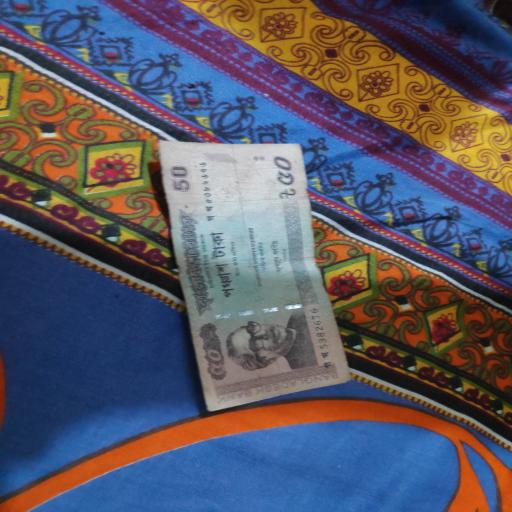50taka: (161, 136, 357, 414)
